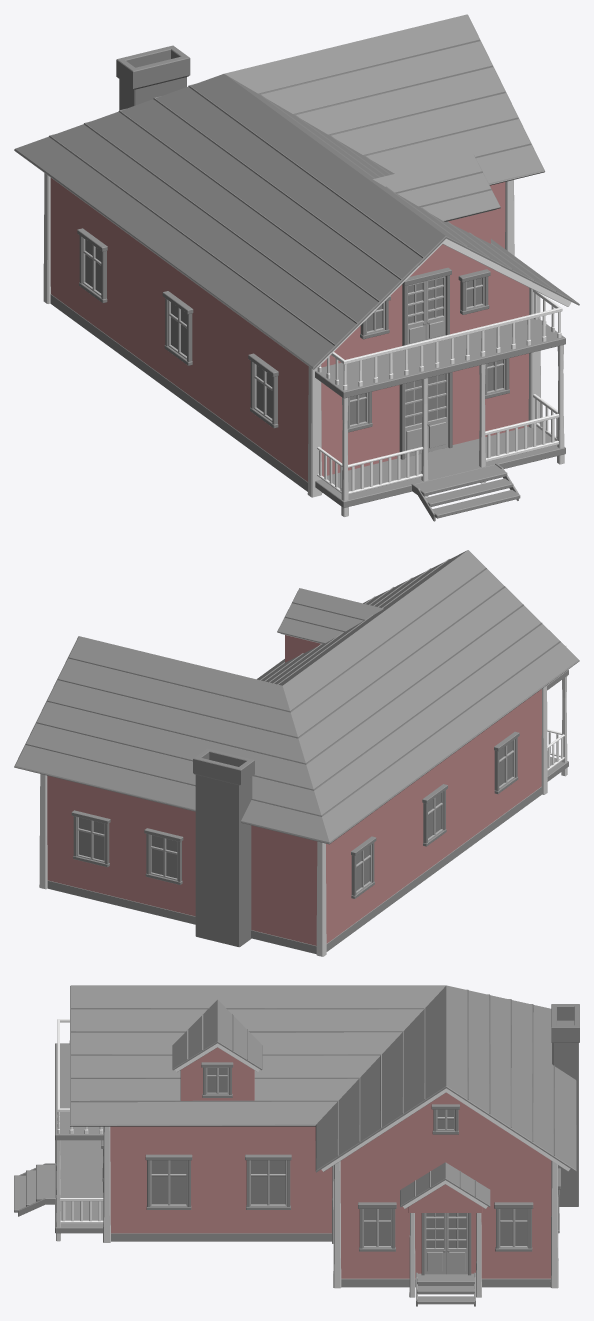
File: fp_casa_l1.glb
3 renders of one model, top to bottom at view 1: azimuth 30°, elevation 25°; view 2: azimuth 150°, elevation 25°; view 3: azimuth 270°, elevation 25°, orthographic. The views are drawn at different scales.
Bounding box in the file's own units: 1.23 × 0.7507 × 1.8.
